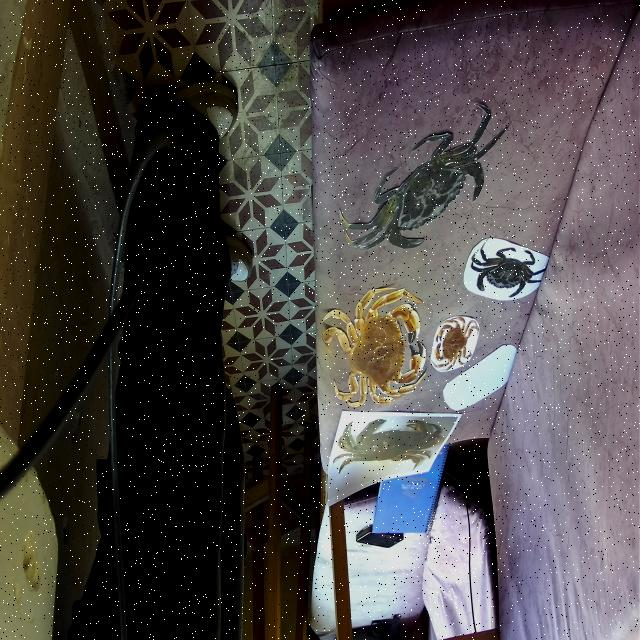European_Green_Crab: (337, 74, 524, 297), (468, 233, 550, 311)
